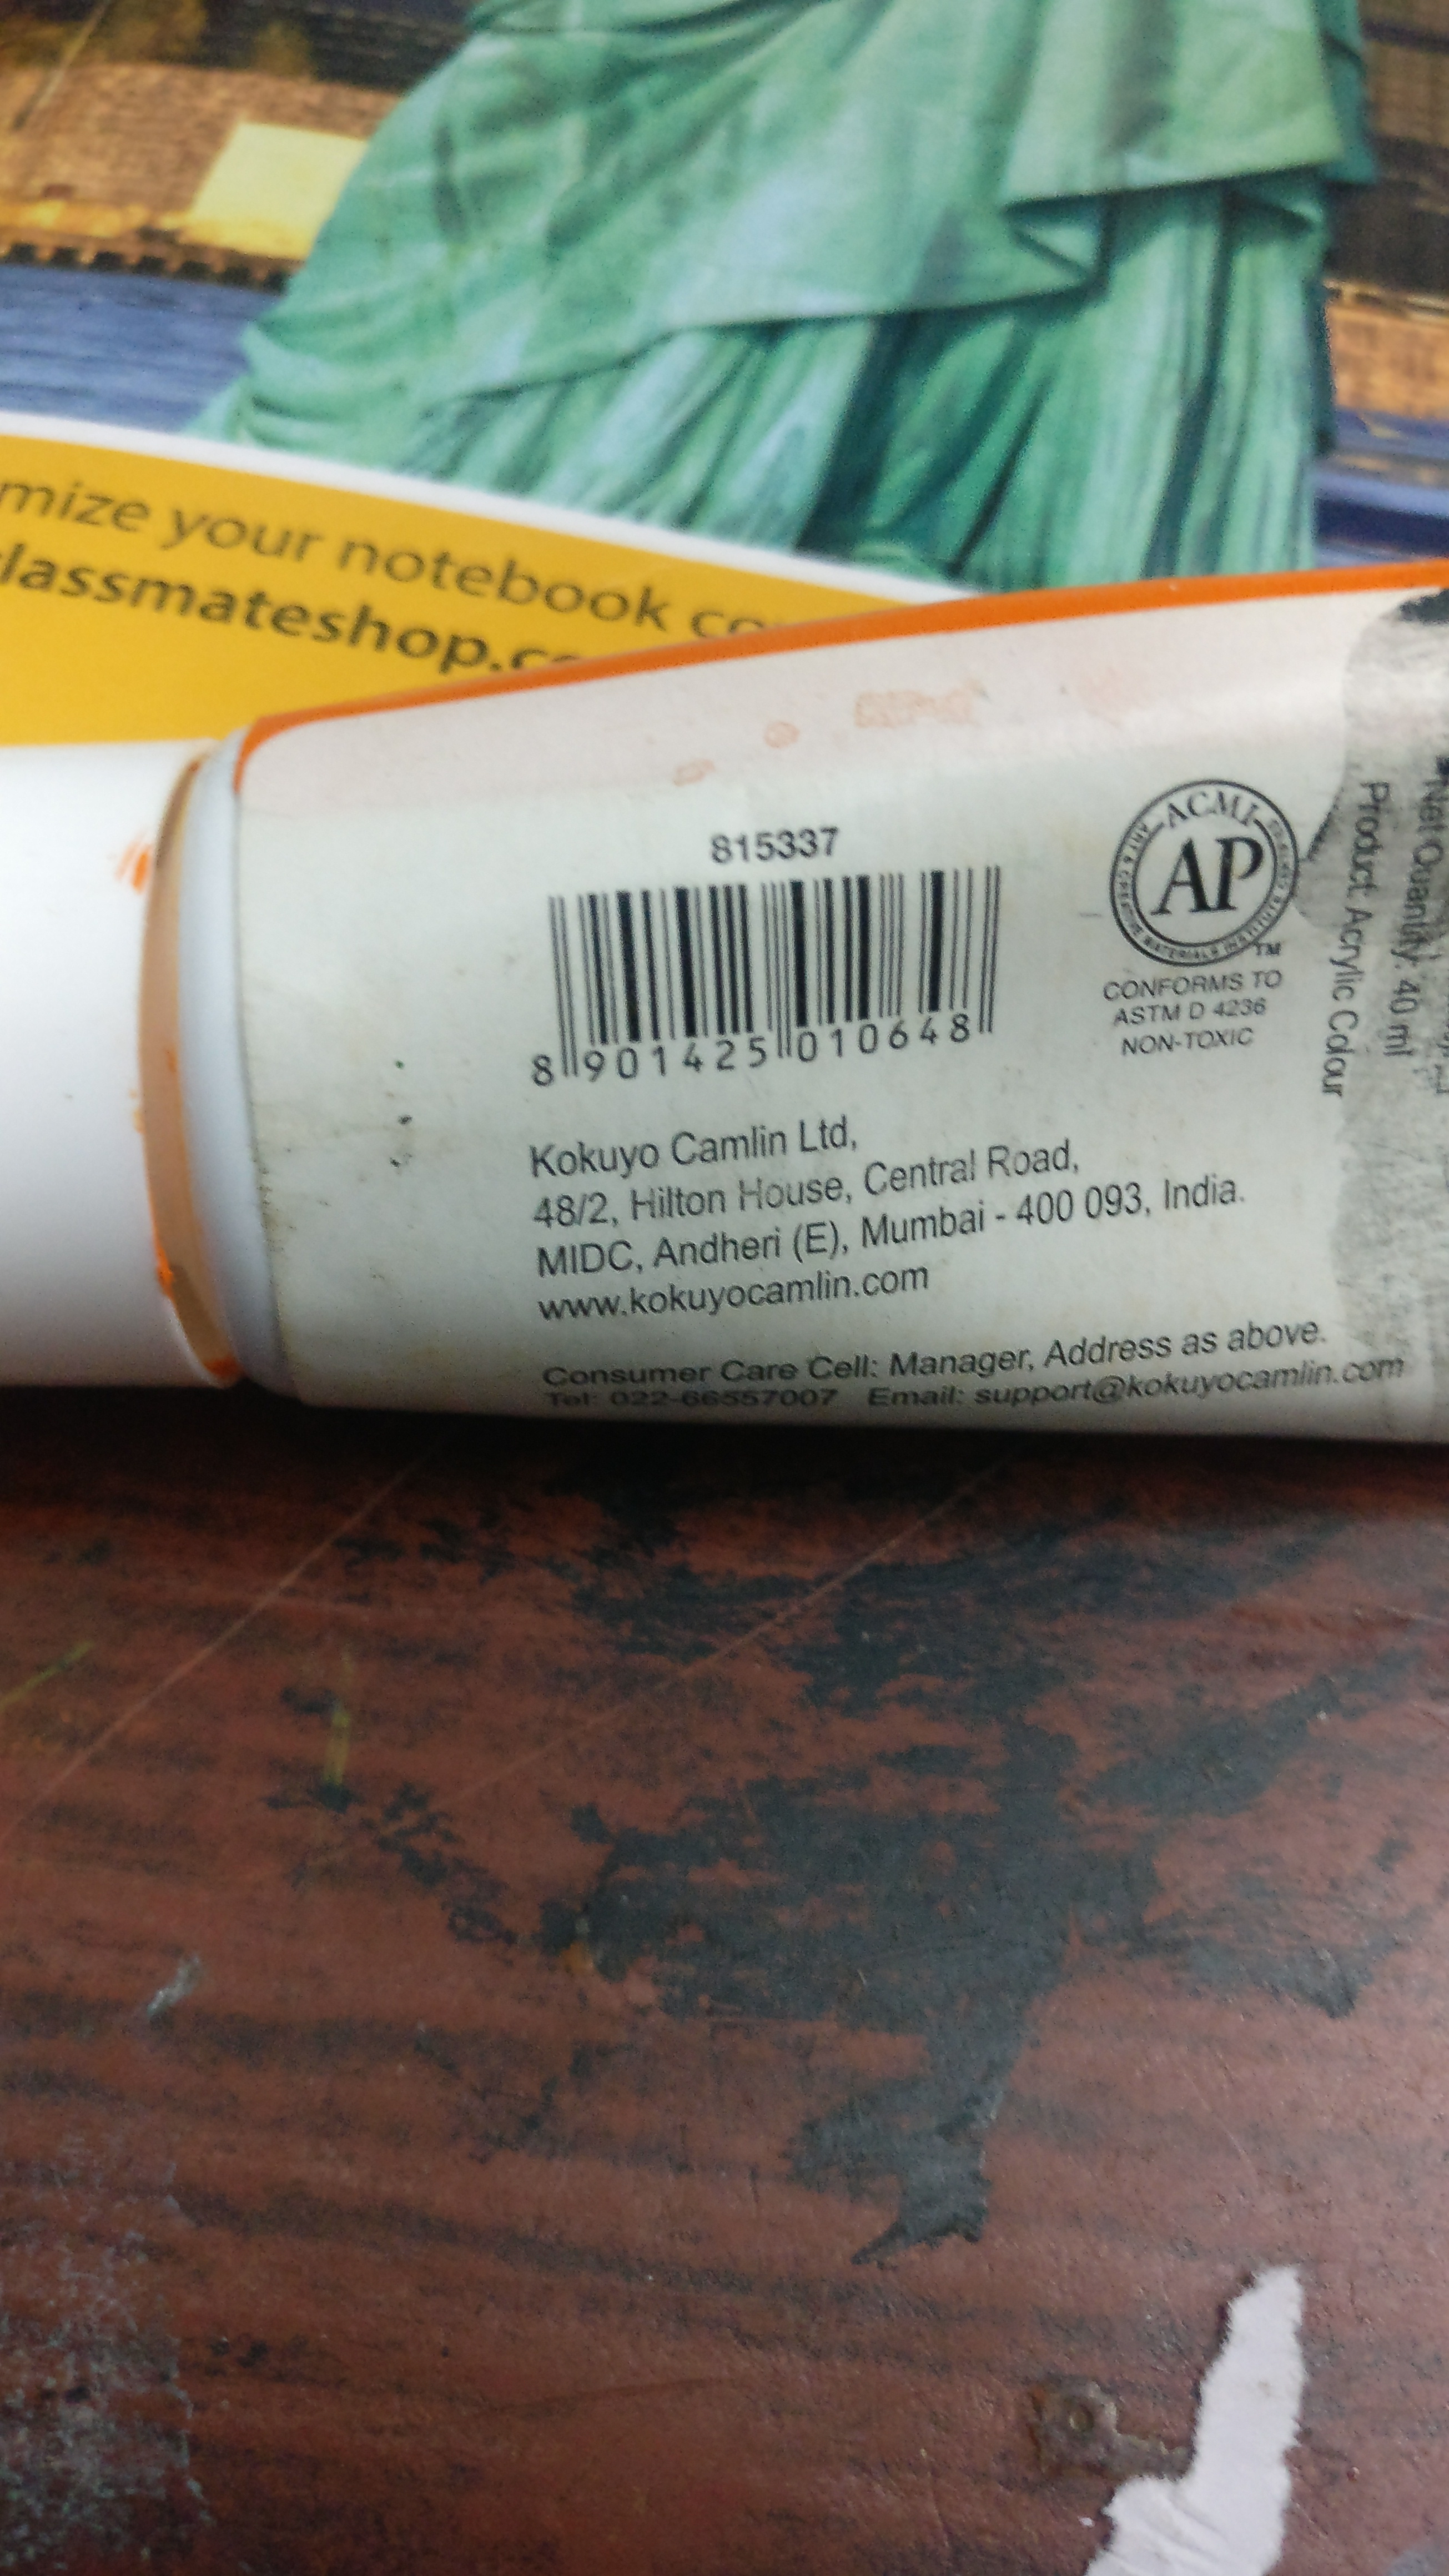barcode: (497, 840, 1026, 1093)
